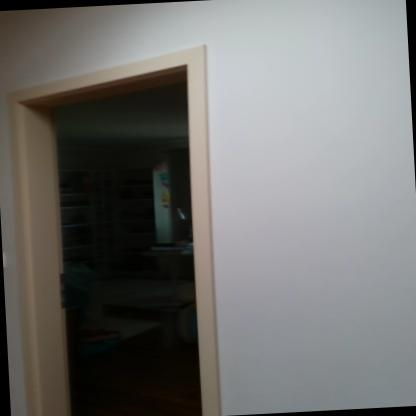open: (0, 31, 249, 416)
